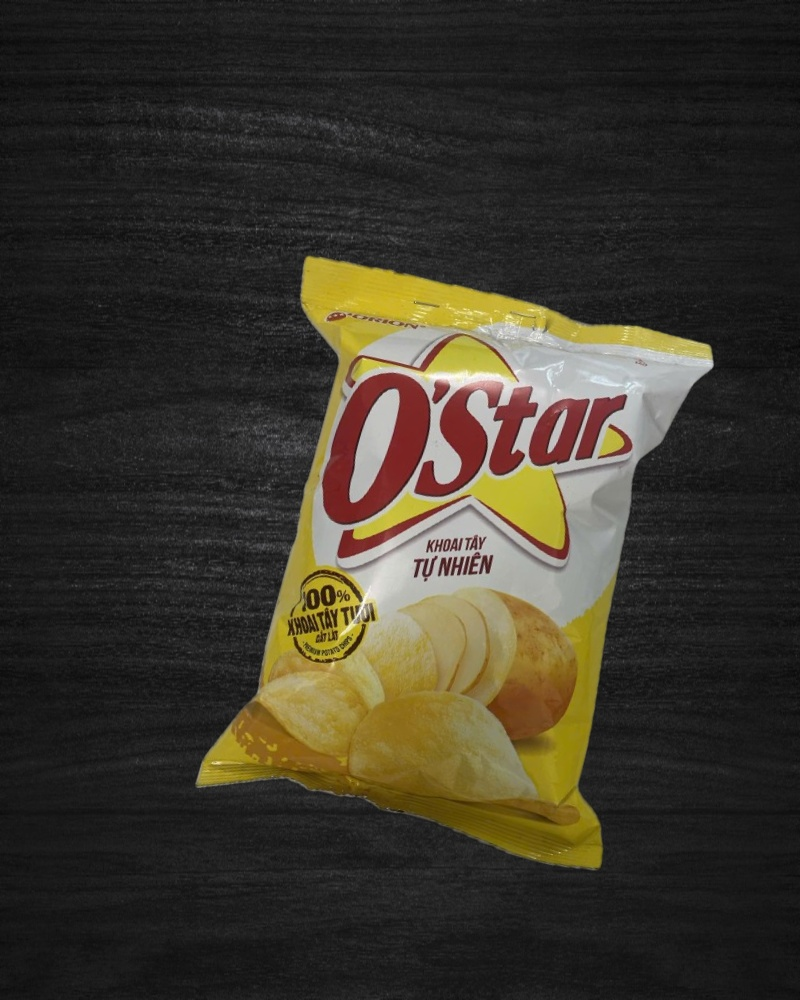O'star: (167, 238, 739, 894)
